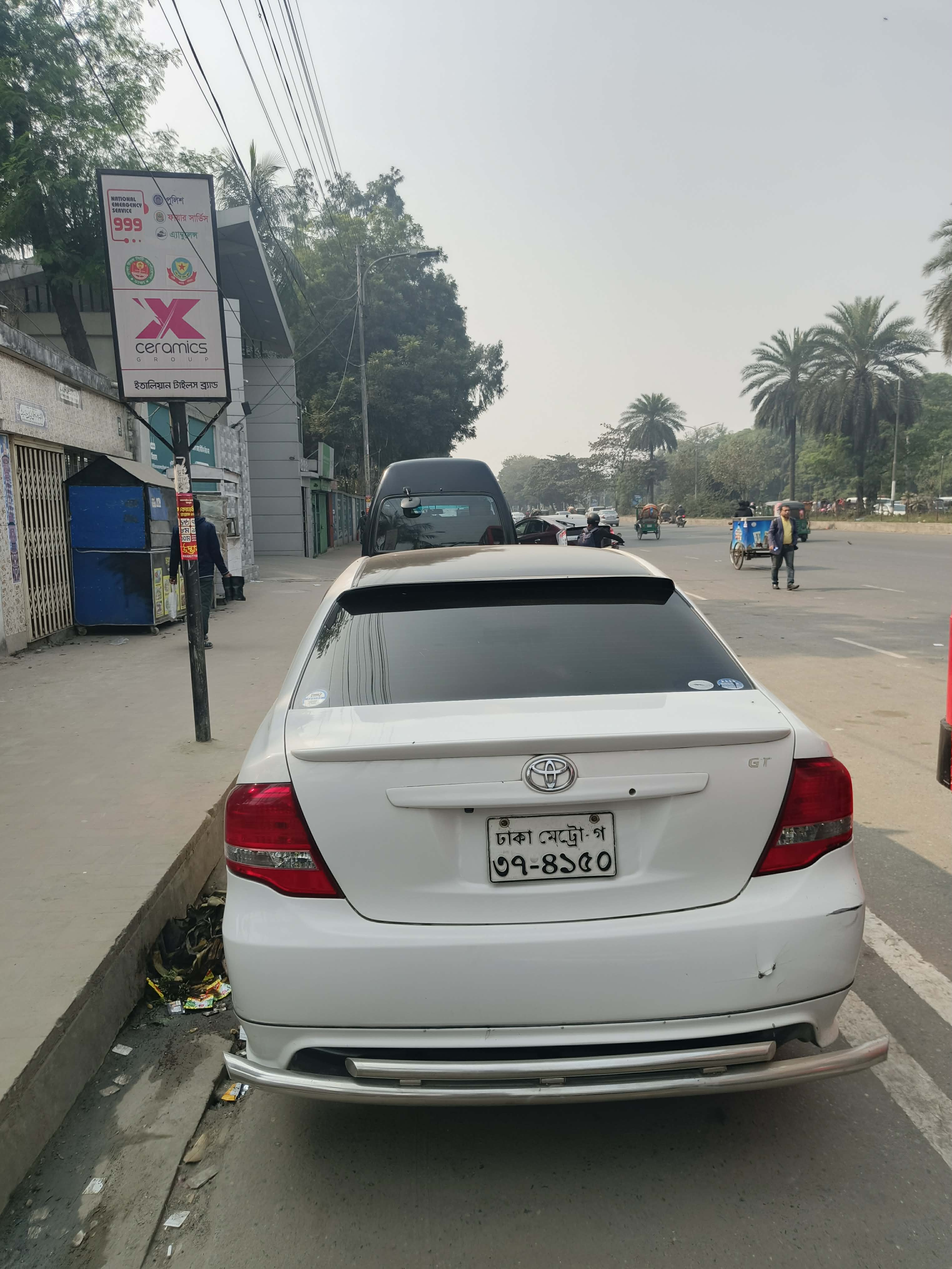private car: (178, 535, 910, 1124)
